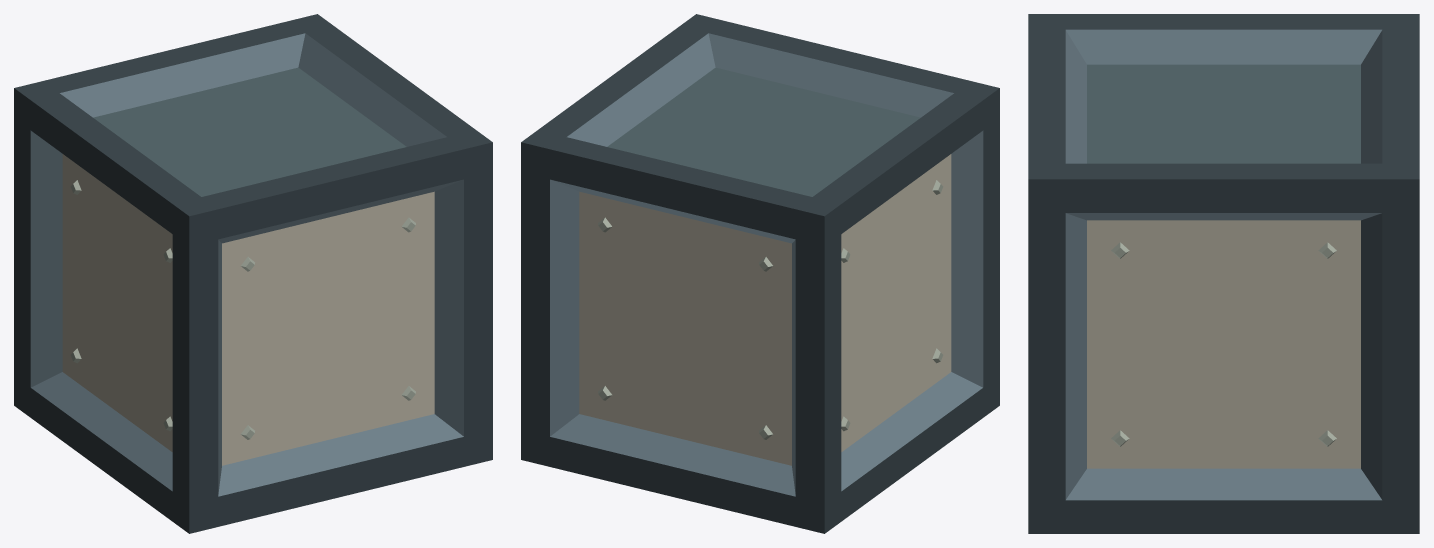
File: bulkhead-block.glb
The picture shows the model from 3 angles, left to right: view 1: azimuth 30°, elevation 25°; view 2: azimuth 150°, elevation 25°; view 3: azimuth 270°, elevation 25°; orthographic projection. The views are drawn at different scales.
Parts seen in each view (by area): view 1: bulkhead-block; view 2: bulkhead-block; view 3: bulkhead-block.
Part boxes in pixels (box(x1,y1,x2,y2)): bulkhead-block: box(14, 14, 492, 533); bulkhead-block: box(521, 14, 999, 533); bulkhead-block: box(1028, 14, 1419, 533).
Bounding box in the file's own units: 1 × 1 × 1.
